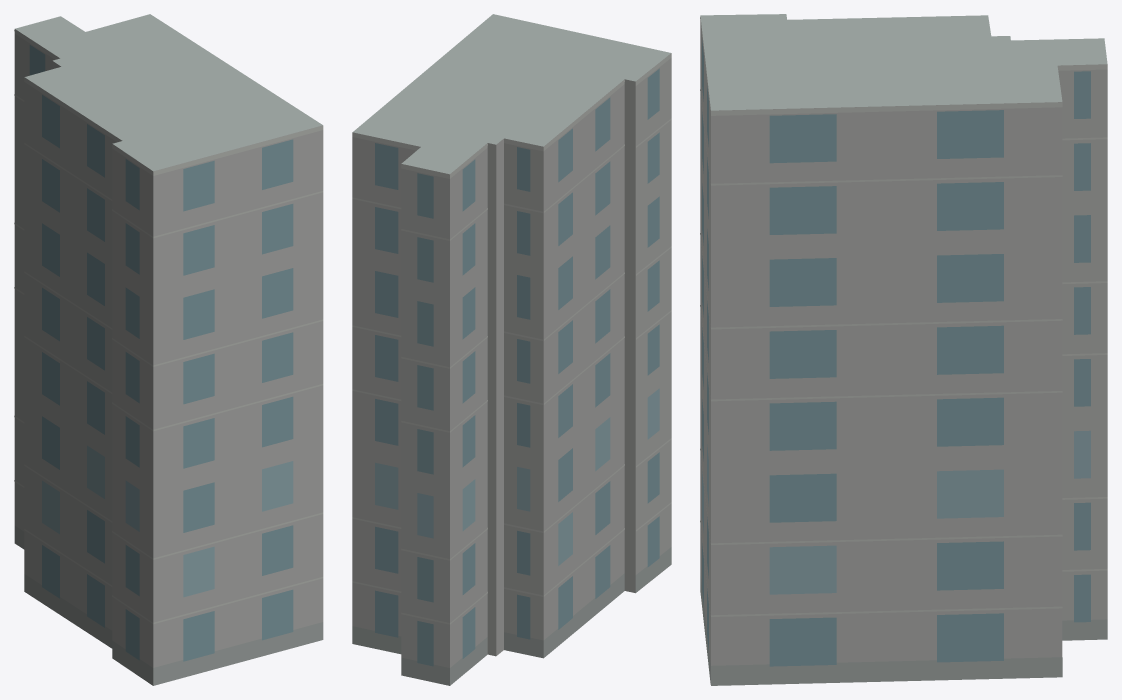
Rendered from survey-upis-32628274.glb.
3 renders of one model, left to right at view 1: azimuth 30°, elevation 25°; view 2: azimuth 150°, elevation 25°; view 3: azimuth 270°, elevation 25°, orthographic. The views are drawn at different scales.
Visible parts, largest first — view 1: survey-upis-32628274.tmp; view 2: survey-upis-32628274.tmp; view 3: survey-upis-32628274.tmp.
Part boxes in pixels (x1,y1,x2,y2): survey-upis-32628274.tmp: (14, 14, 323, 685); survey-upis-32628274.tmp: (352, 14, 671, 685); survey-upis-32628274.tmp: (700, 14, 1107, 685).
Size of the model in its own units: 9.59 by 26.55 by 17.06.
